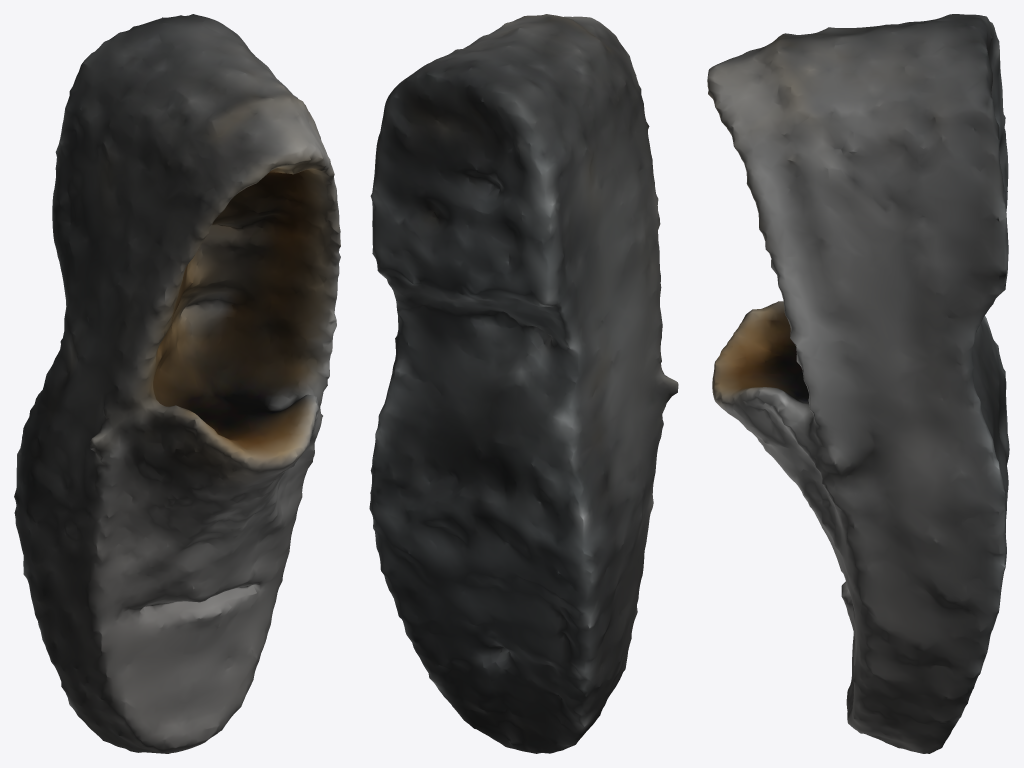
Rendered from leather.glb.
3 views of the same model, side by side, from view 1: azimuth 30°, elevation 25°; view 2: azimuth 150°, elevation 25°; view 3: azimuth 270°, elevation 25° (orthographic). The views are drawn at different scales.
Bounding box in the file's own units: 0.3499 × 0.9954 × 0.3708.
